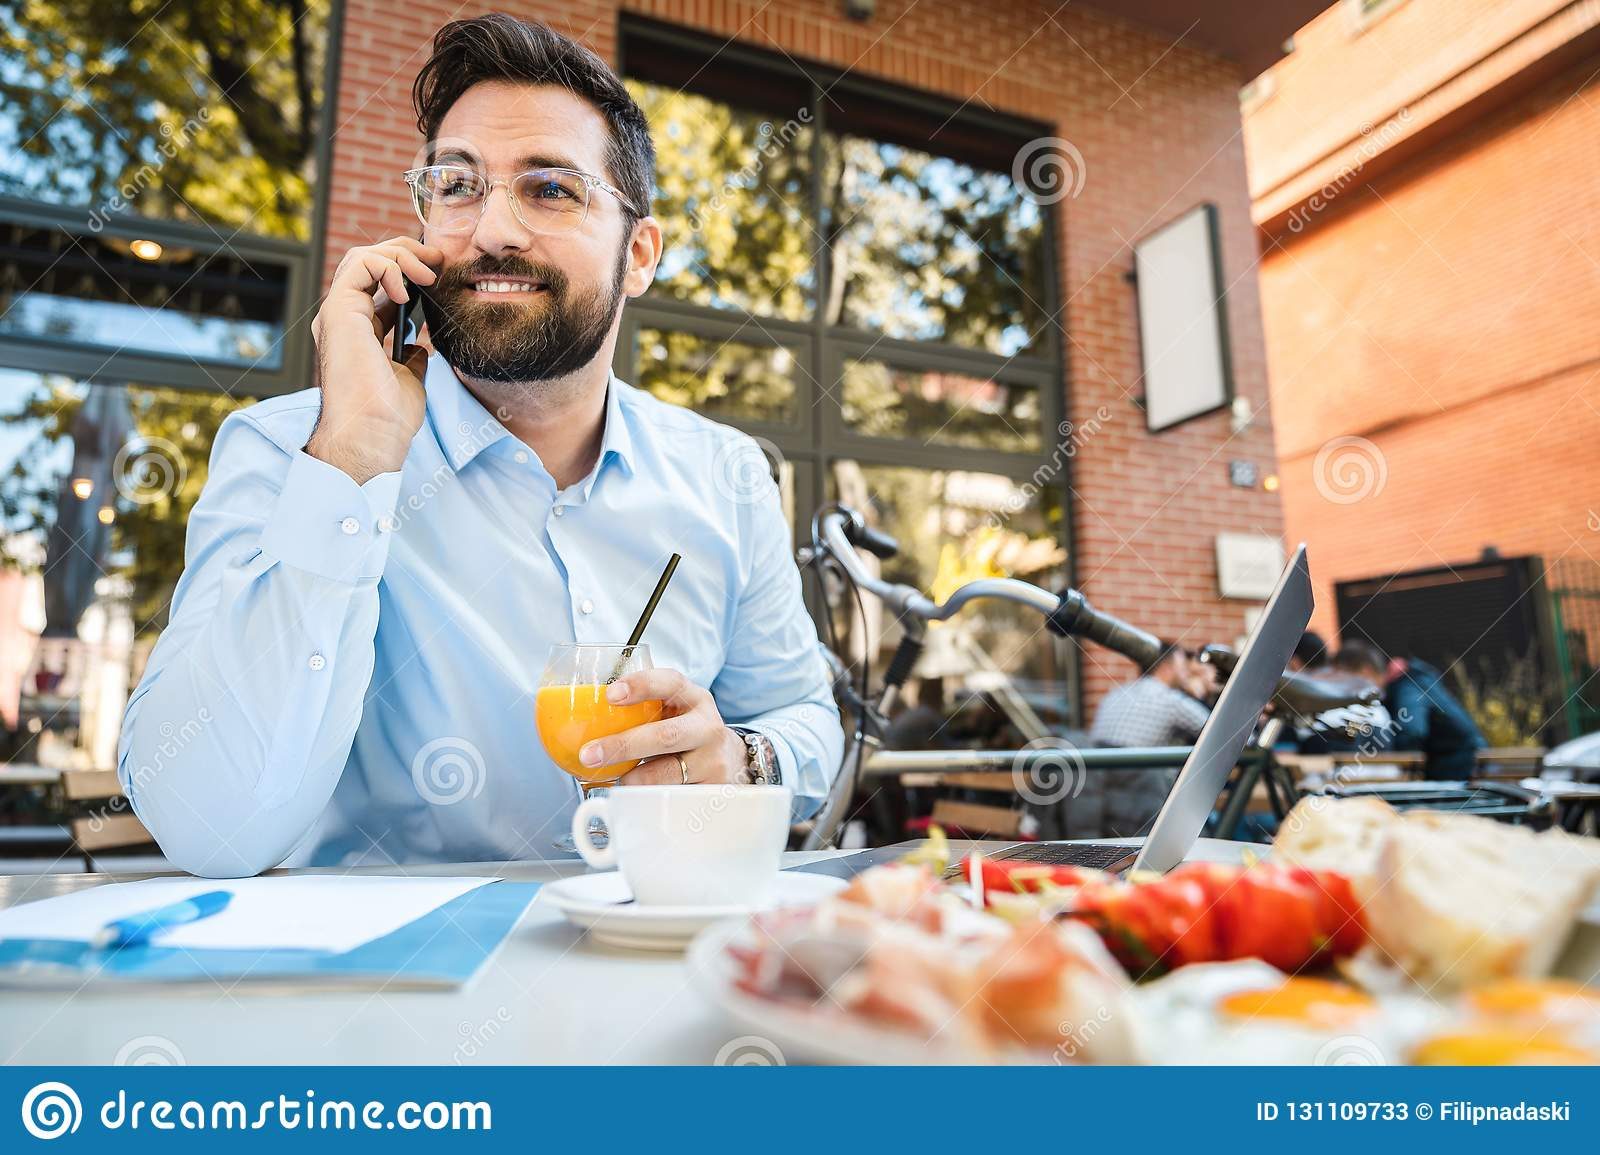phone: (389, 246, 425, 373)
talk: (309, 135, 617, 460)
